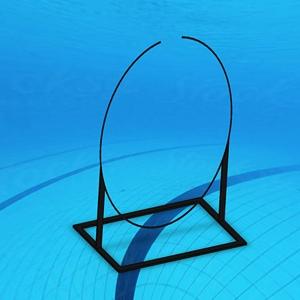circle: (72, 34, 249, 276)
